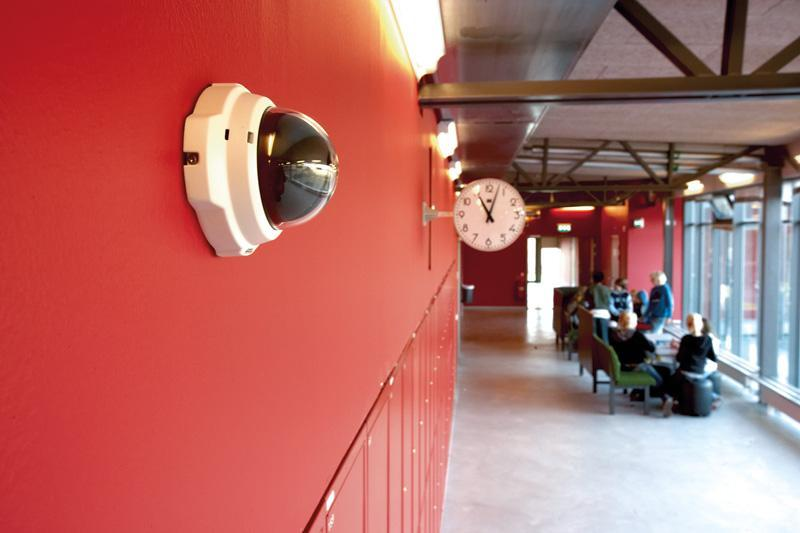CCTV: (182, 83, 339, 256)
